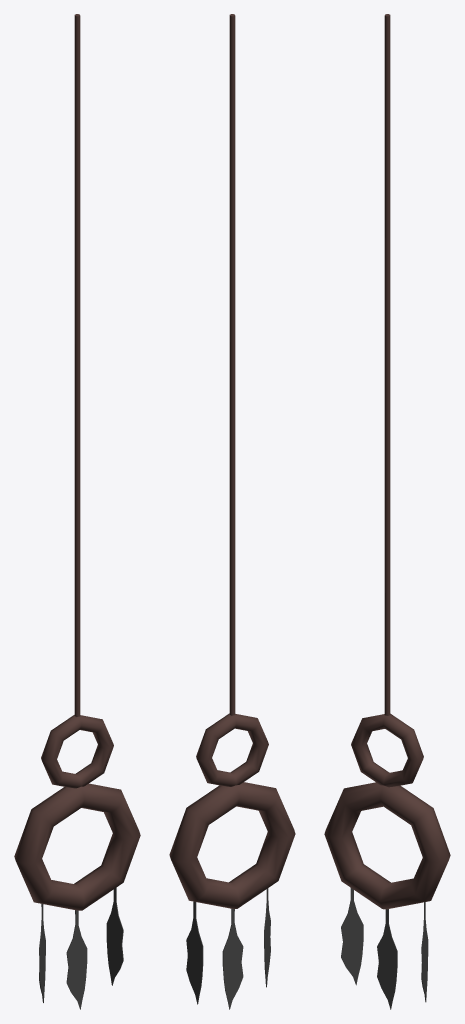
File: dreamcatcher_003.fbx
3 renders of one model, left to right at view 1: azimuth 30°, elevation 25°; view 2: azimuth 210°, elevation 25°; view 3: azimuth 330°, elevation 25°, orthographic.
Parts seen in each view (by area): view 1: dreamcatcher.003; view 2: dreamcatcher.003; view 3: dreamcatcher.003.
Part boxes in pixels (bbox=[...]): dreamcatcher.003: bbox=[14, 14, 140, 1009]; dreamcatcher.003: bbox=[169, 14, 295, 1009]; dreamcatcher.003: bbox=[324, 14, 450, 1009].
Size of the model in its own units: 15.57 by 120 by 3.11.
